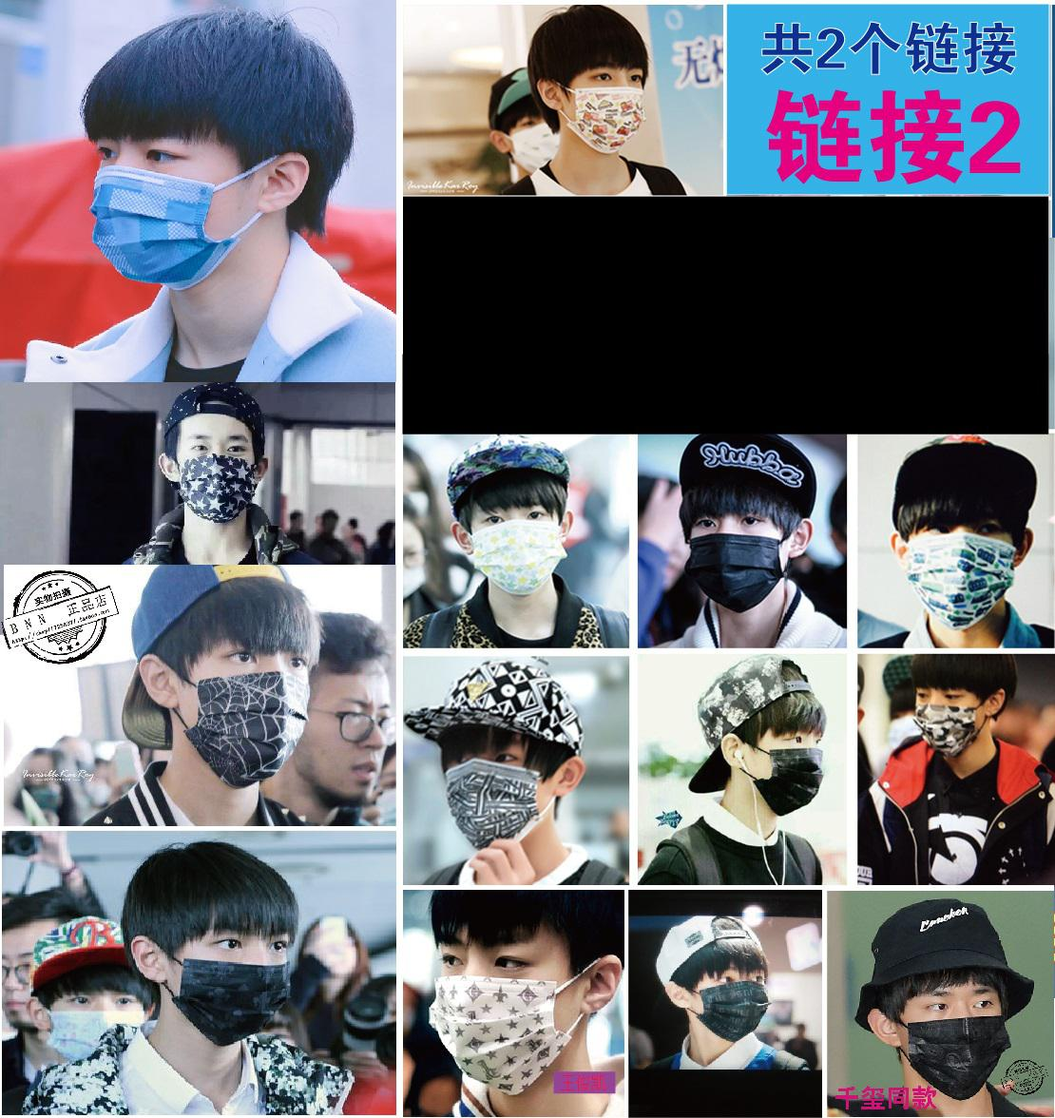NONE: (297, 679, 393, 795), (2, 935, 64, 1028)
OK: (81, 119, 246, 284), (151, 618, 313, 780), (423, 916, 583, 1076), (177, 903, 300, 1027), (890, 973, 1011, 1094), (458, 489, 576, 607), (902, 517, 1016, 633), (448, 736, 553, 845), (693, 502, 797, 607), (730, 708, 829, 807), (678, 949, 772, 1043), (175, 429, 267, 521), (59, 978, 156, 1064), (569, 59, 650, 149), (911, 672, 989, 751), (501, 113, 574, 175)
